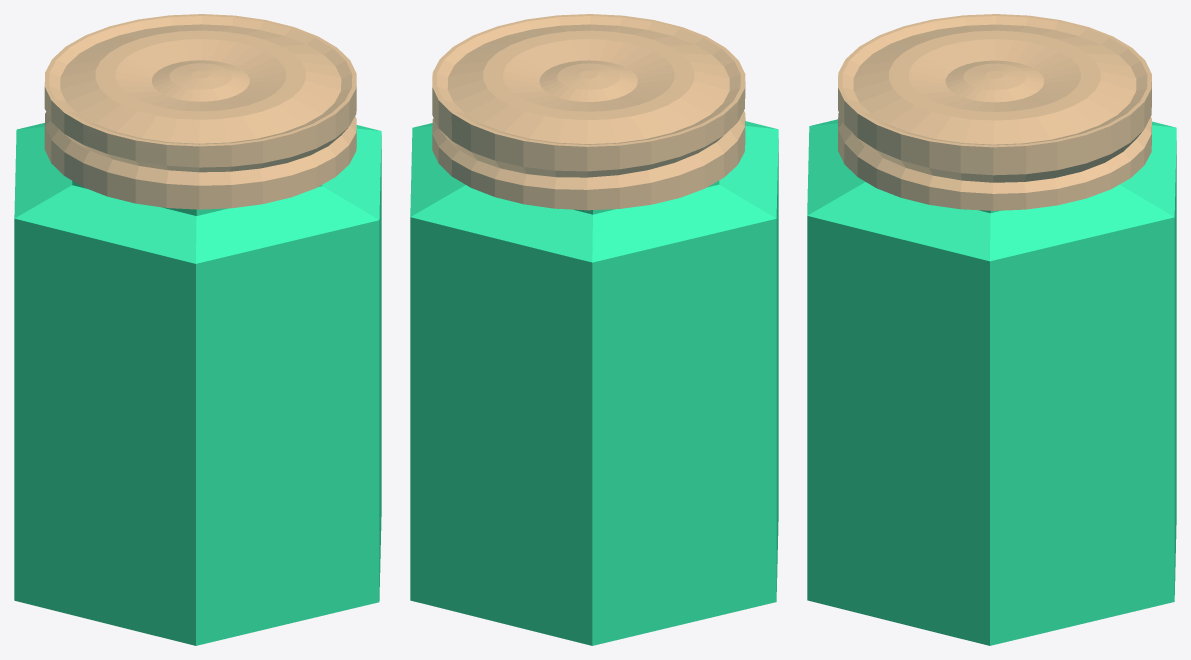
Rendered from sheepinjar.fbx.
3 views of the same model, side by side, from view 1: azimuth 30°, elevation 25°; view 2: azimuth 150°, elevation 25°; view 3: azimuth 270°, elevation 25° (orthographic).
Parts seen in each view (by area): view 1: Cylinder.016, Cylinder.015; view 2: Cylinder.016, Cylinder.015; view 3: Cylinder.016, Cylinder.015.
Boxes of the visible parts, box(x1,y1,x2,y2) form: Cylinder.016: box(14, 123, 381, 645); Cylinder.015: box(44, 14, 356, 209); Cylinder.016: box(410, 121, 778, 645); Cylinder.015: box(432, 14, 745, 210); Cylinder.016: box(807, 119, 1176, 645); Cylinder.015: box(838, 14, 1151, 210).
Bounding box in the file's own units: 1316 × 1511 × 1900.
